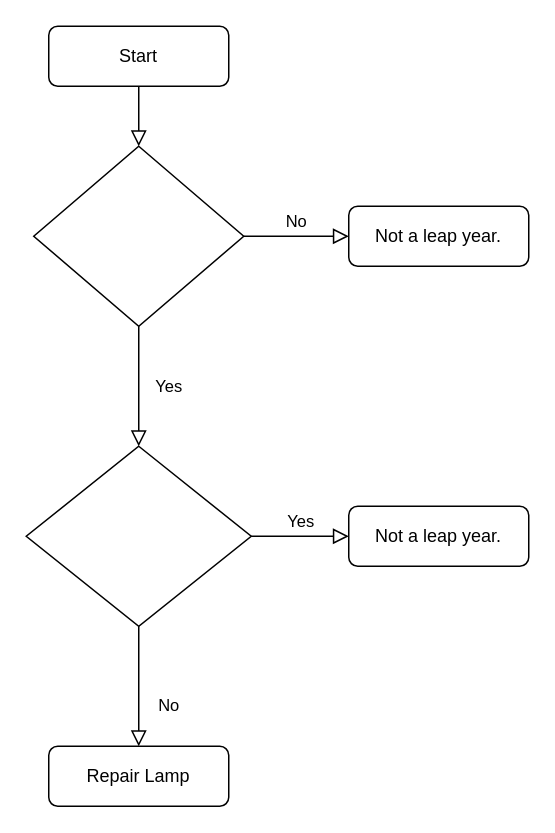
Some shapes in this 555 by 833 pixel diagram are drawn without their labels. The centre of each missing label's shape, as x and y in pixels:
"Is year divisible by 100?" goes at point (138, 535).
"Is year divisible by 4?" goes at point (138, 235).
